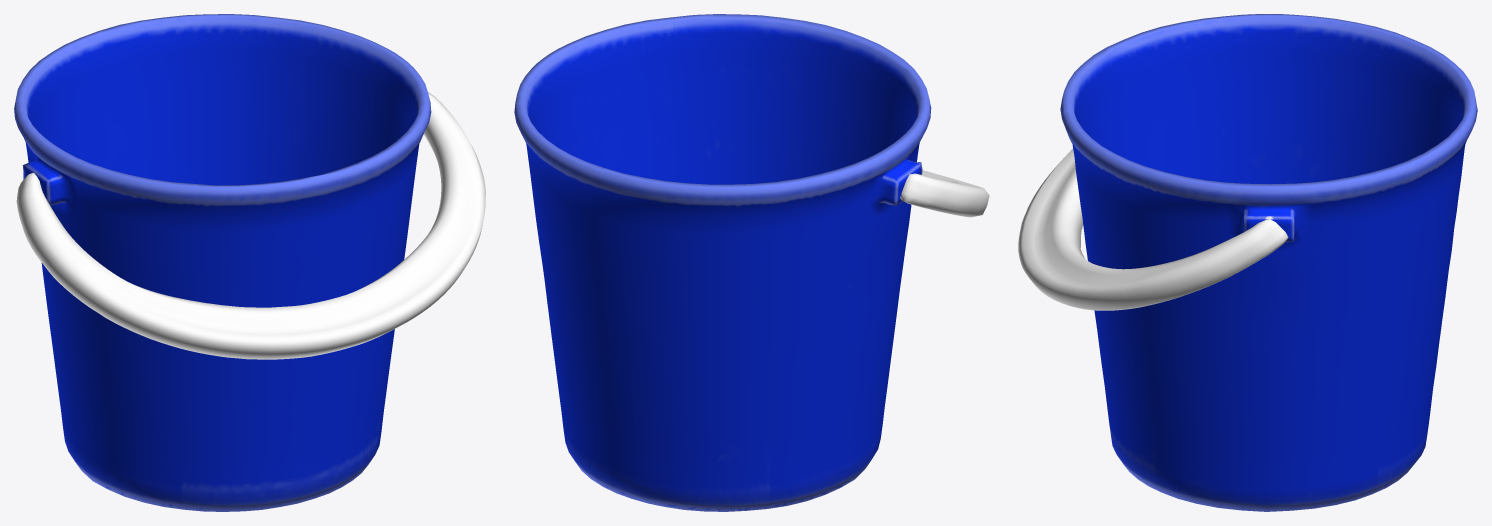
The model's file is Bucket.objC4C4C76D-790A-49A2-920F-0ABB92569F5E.obj.
3 renders of one model, left to right at view 1: azimuth 30°, elevation 25°; view 2: azimuth 150°, elevation 25°; view 3: azimuth 270°, elevation 25°, orthographic.
Parts seen in each view (by area): view 1: Volume4, Volume77; view 2: Volume4, Volume77; view 3: Volume4, Volume77.
Part boxes in pixels (x1=…): Volume4: x1=14, y1=14, x2=431, y2=511; Volume77: x1=16, y1=92, x2=485, y2=359; Volume4: x1=514, y1=14, x2=931, y2=511; Volume77: x1=900, y1=170, x2=989, y2=217; Volume4: x1=1060, y1=14, x2=1477, y2=511; Volume77: x1=1018, y1=148, x2=1288, y2=310.
Size of the model in its own units: 88.93 by 69.36 by 82.35.
